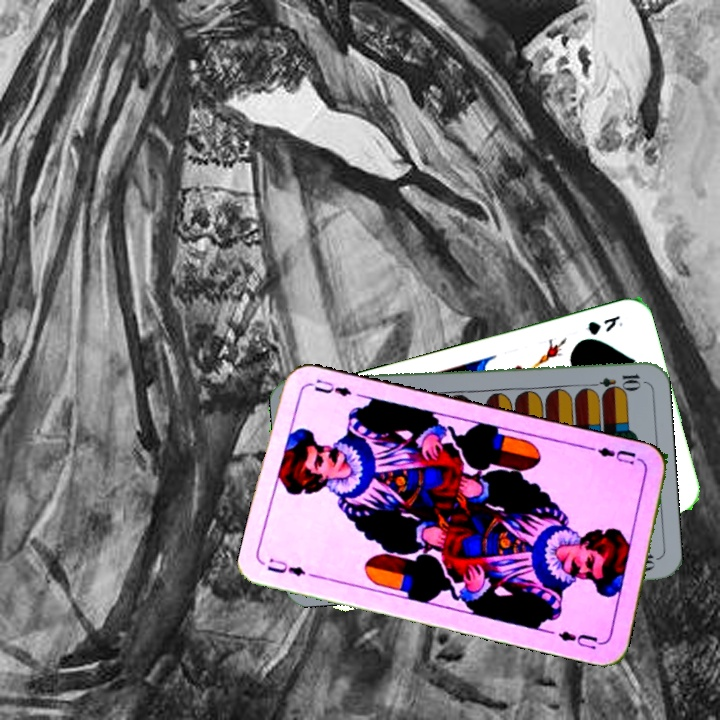E10: (584, 370, 643, 392)
EU: (587, 443, 639, 467), (263, 554, 309, 580)
GK: (581, 311, 626, 338)
